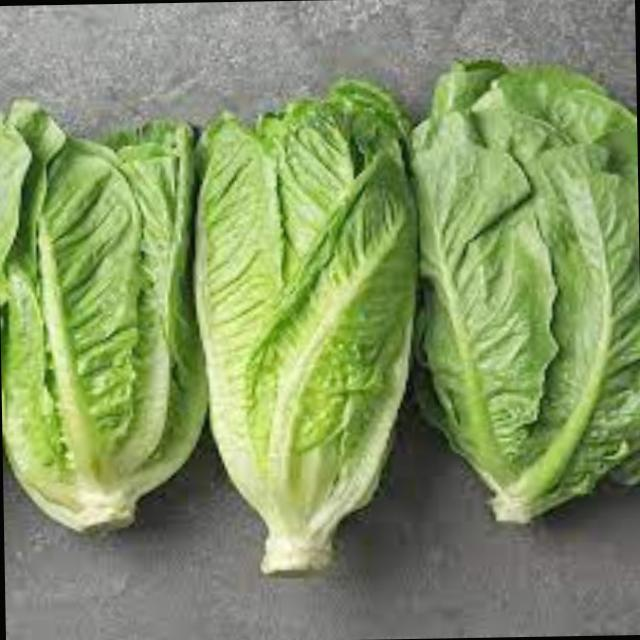healthy: (198, 96, 412, 575), (445, 71, 626, 523), (0, 119, 190, 534)
